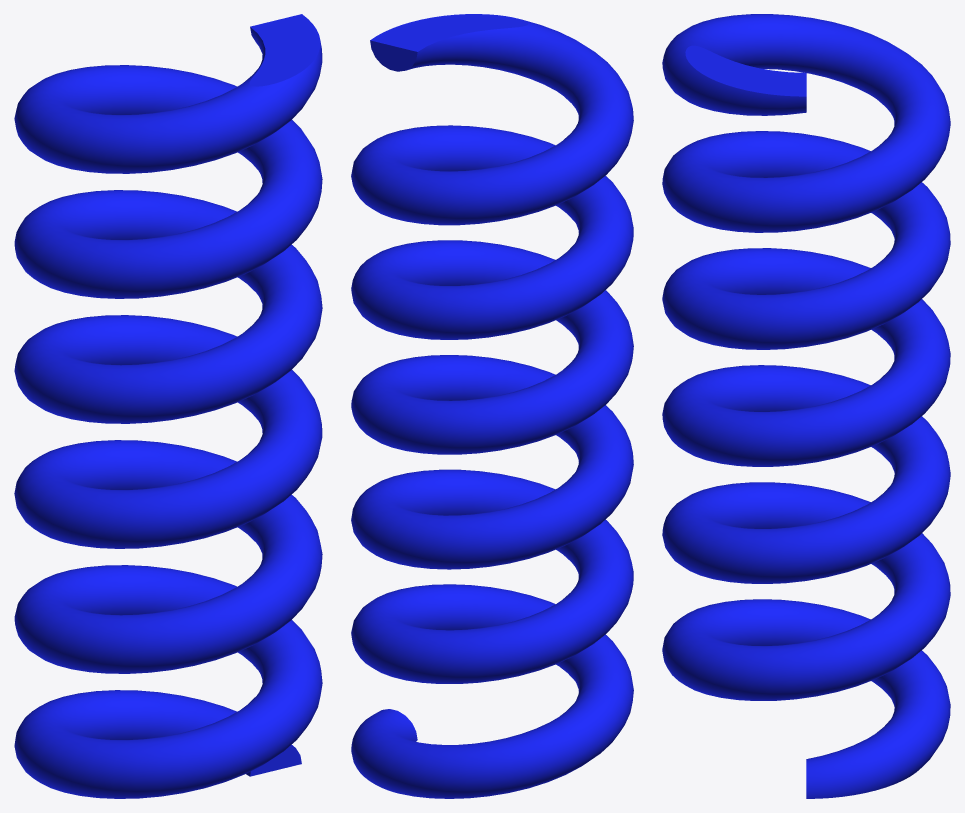
File: Spring.glb
3 renders of one model, left to right at view 1: azimuth 30°, elevation 25°; view 2: azimuth 150°, elevation 25°; view 3: azimuth 270°, elevation 25°, orthographic. The views are drawn at different scales.
Visible parts, largest first — view 1: Solid1.004; view 2: Solid1.004; view 3: Solid1.004.
Boxes of the visible parts, <box> form: Solid1.004: <box>14,14,322,798</box>; Solid1.004: <box>351,14,633,798</box>; Solid1.004: <box>662,14,950,798</box>.
Size of the model in its own units: 0.0372 by 0.1 by 0.0372.
